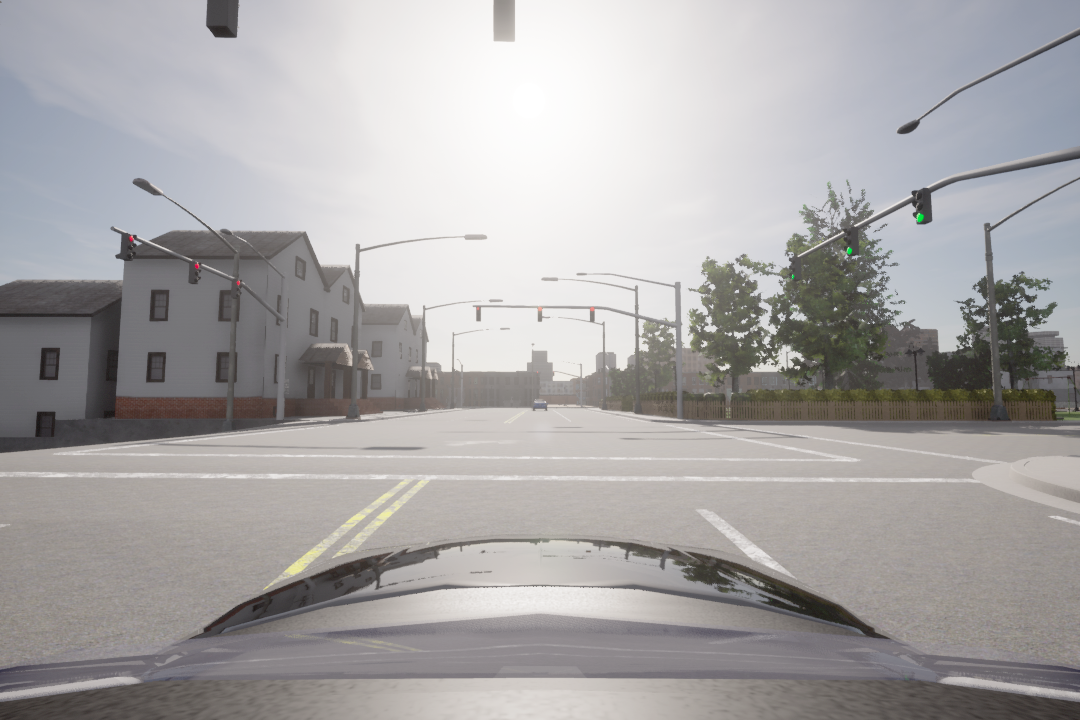TrafficLight: (907, 184, 934, 224), (844, 222, 863, 261), (786, 256, 807, 287), (116, 235, 137, 259), (187, 258, 201, 284), (232, 277, 245, 301), (586, 305, 597, 324), (474, 307, 484, 324), (534, 304, 543, 321)
